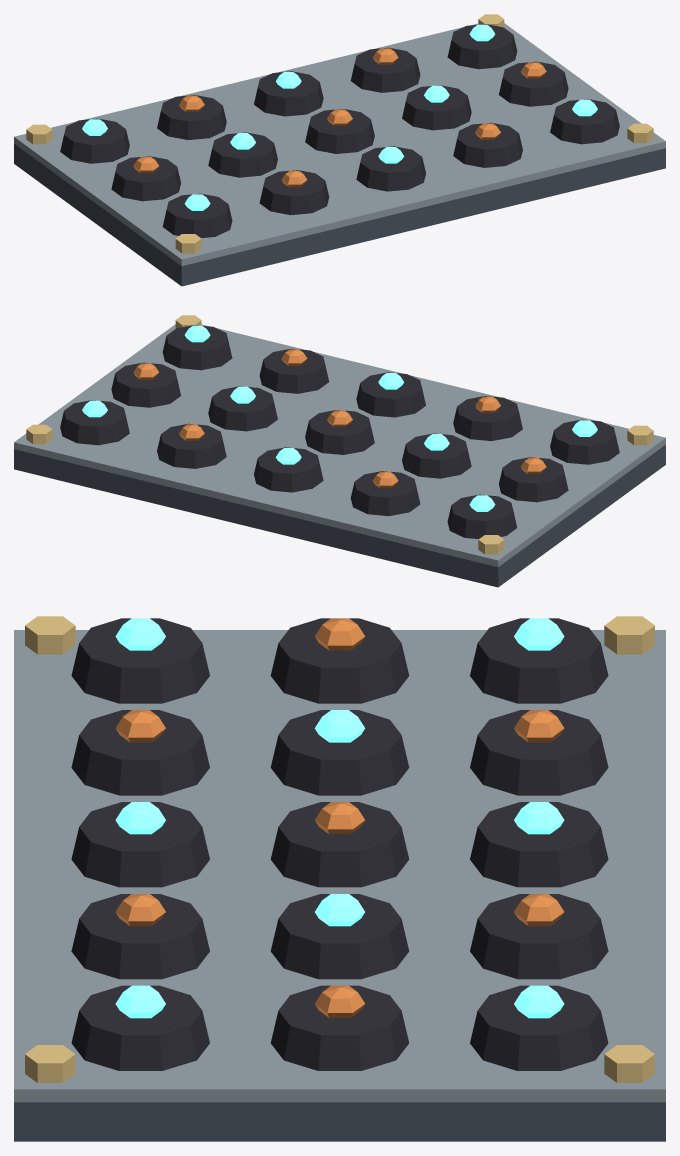
The model's file is sub_sonar_array.glb.
3 renders of one model, top to bottom at view 1: azimuth 30°, elevation 25°; view 2: azimuth 150°, elevation 25°; view 3: azimuth 270°, elevation 25°, orthographic. The views are drawn at different scales.
Parts seen in each view (by area): view 1: sub_sonar_array_hull, sub_sonar_array_rubber, sub_sonar_array_dark, sub_sonar_array_glow, sub_sonar_array_accent, sub_sonar_array_brass; view 2: sub_sonar_array_hull, sub_sonar_array_rubber, sub_sonar_array_dark, sub_sonar_array_glow, sub_sonar_array_accent, sub_sonar_array_brass; view 3: sub_sonar_array_hull, sub_sonar_array_rubber, sub_sonar_array_dark, sub_sonar_array_glow, sub_sonar_array_accent, sub_sonar_array_brass.
Boxes of the visible parts, x1,y1,x2,y2 form: sub_sonar_array_hull: (14,23,665,265); sub_sonar_array_rubber: (60,24,619,237); sub_sonar_array_dark: (14,144,665,286); sub_sonar_array_glow: (82,24,597,210); sub_sonar_array_accent: (133,48,546,187); sub_sonar_array_brass: (26,14,653,253); sub_sonar_array_hull: (14,324,665,566); sub_sonar_array_rubber: (60,325,619,538); sub_sonar_array_dark: (14,445,665,587); sub_sonar_array_glow: (82,325,597,511); sub_sonar_array_accent: (133,349,546,488); sub_sonar_array_brass: (26,315,653,554); sub_sonar_array_hull: (14,630,665,1102); sub_sonar_array_rubber: (71,618,608,1070); sub_sonar_array_dark: (14,1102,665,1141); sub_sonar_array_glow: (115,618,564,1018); sub_sonar_array_accent: (115,618,564,1018); sub_sonar_array_brass: (25,616,654,1082).
Size of the model in its own units: 3 by 0.33 by 1.8.
